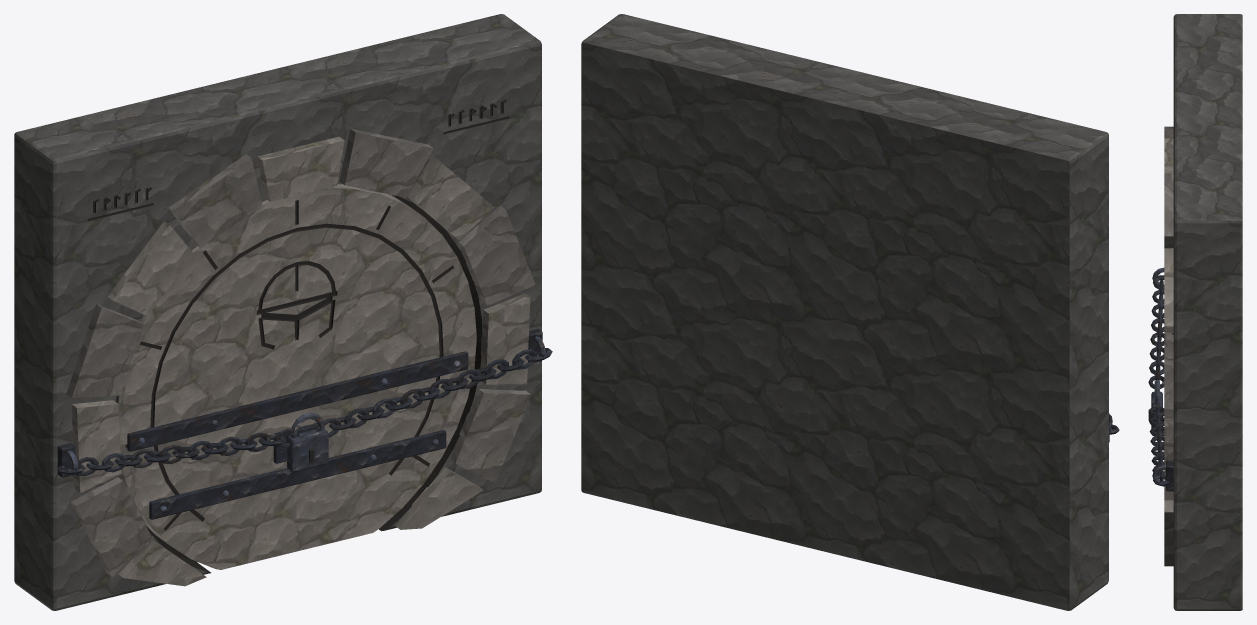
File: th_sealed_door.glb
3 renders of one model, left to right at view 1: azimuth 30°, elevation 25°; view 2: azimuth 150°, elevation 25°; view 3: azimuth 270°, elevation 25°, orthographic. The views are drawn at different scales.
Parts seen in each view (by area): view 1: model; view 2: model; view 3: model.
Part boxes in pixels (x1,y1,x2,y2): model: [14, 14, 552, 610]; model: [581, 14, 1119, 610]; model: [1148, 14, 1242, 610].
Bounding box in the file's own units: 2.11 × 1.85 × 0.4027.
Materials: 8 (6 with a texture image).
